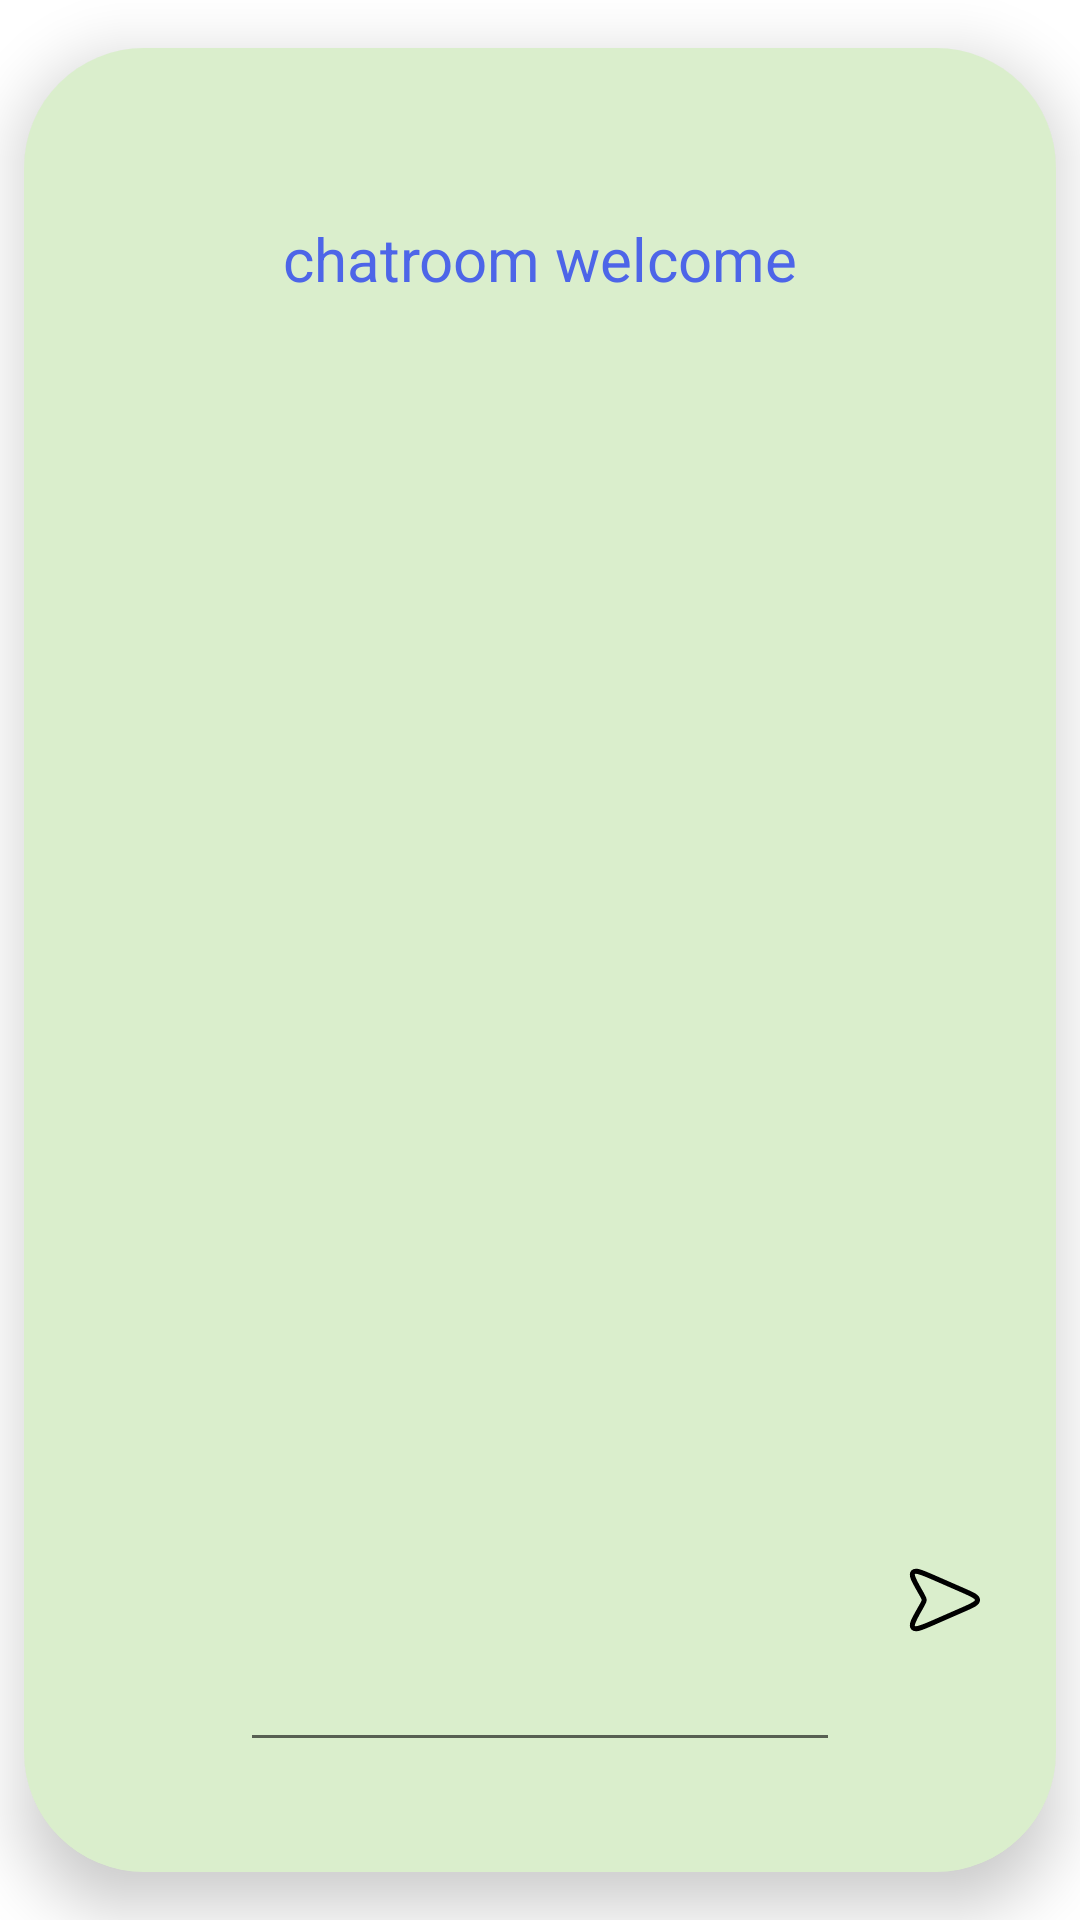

Named icons in this screenshot (1080x1920) and their bounding boxes, (x1, y1, x2, y2):
sned msg: (909, 1568, 980, 1632)
